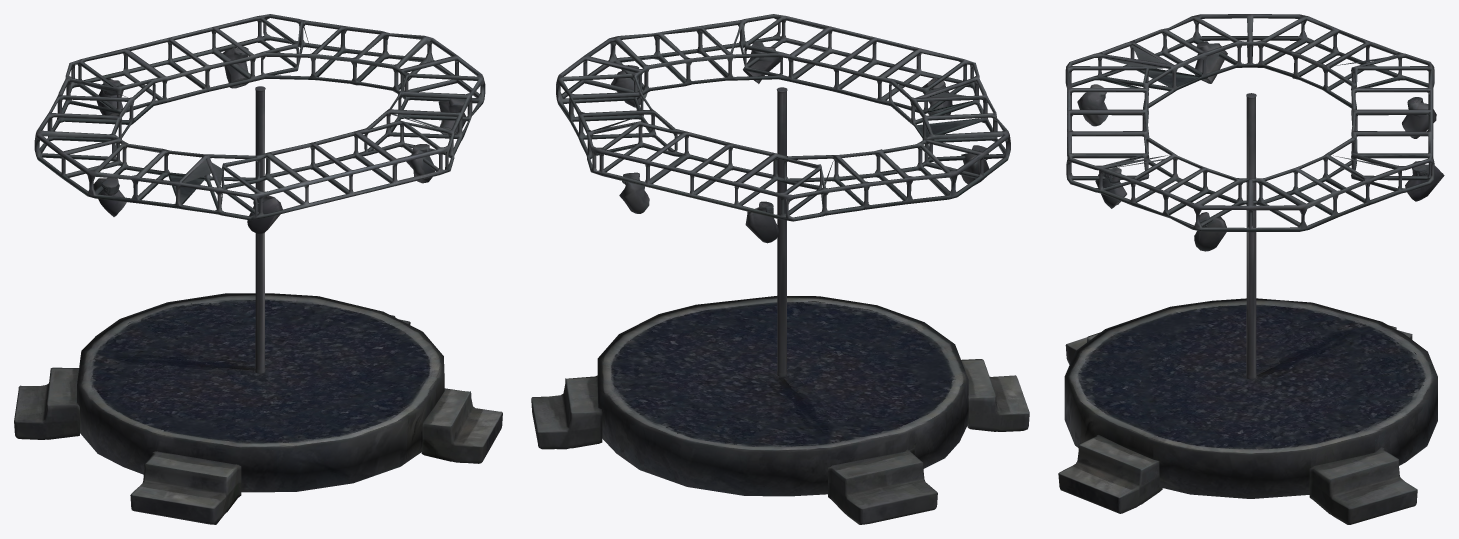
Rendered from SM_Stage.fbx.
3 views of the same model, side by side, from view 1: azimuth 30°, elevation 25°; view 2: azimuth 150°, elevation 25°; view 3: azimuth 270°, elevation 25° (orthographic).
Parts seen in each view (by area): view 1: tripo_node_4decad08; view 2: tripo_node_4decad08; view 3: tripo_node_4decad08.
Boxes of the visible parts, x1,y1,x2,y2 form: tripo_node_4decad08: (14, 14, 502, 524); tripo_node_4decad08: (531, 14, 1029, 524); tripo_node_4decad08: (1058, 14, 1444, 524).
Bounding box in the file's own units: 99.95 × 84.03 × 80.52.
1 material, 1 textured.
